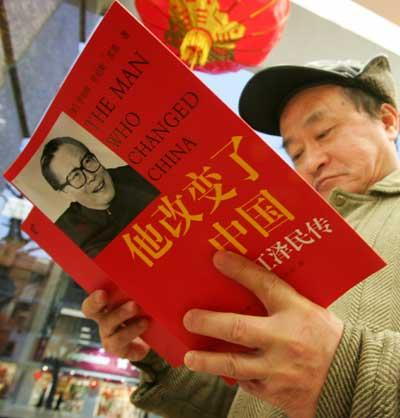person: (82, 57, 400, 418)
